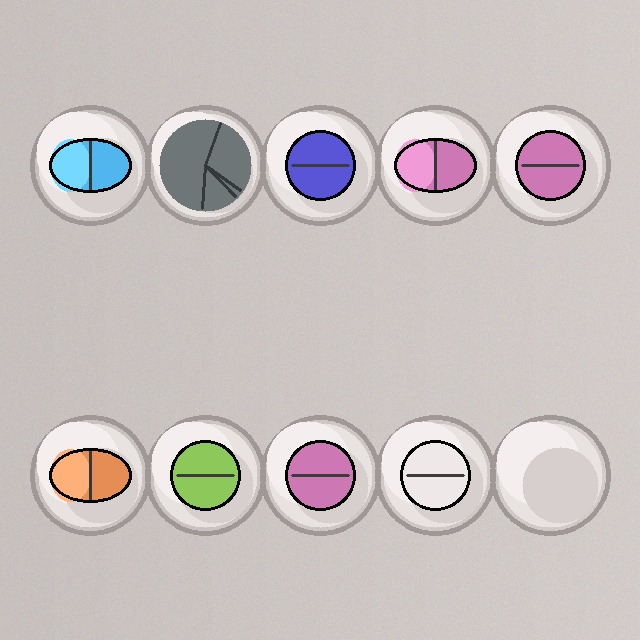empty: (143, 103, 267, 227)
missing: (488, 413, 612, 537)
